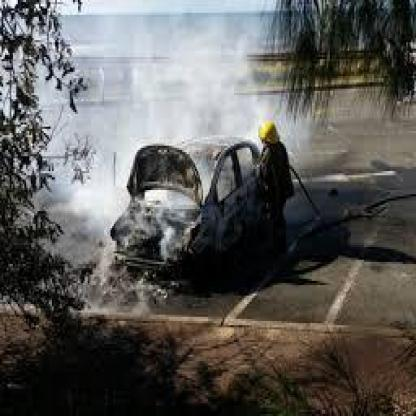other: (253, 115, 279, 145)
